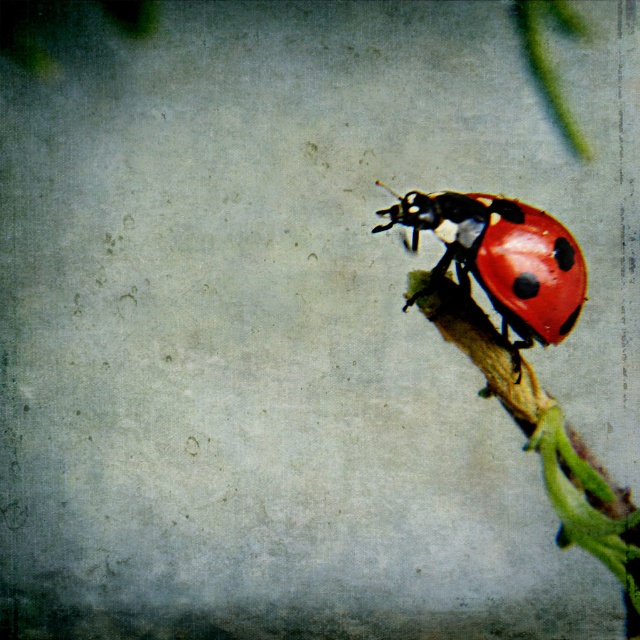Ladybug: (370, 179, 589, 386)
